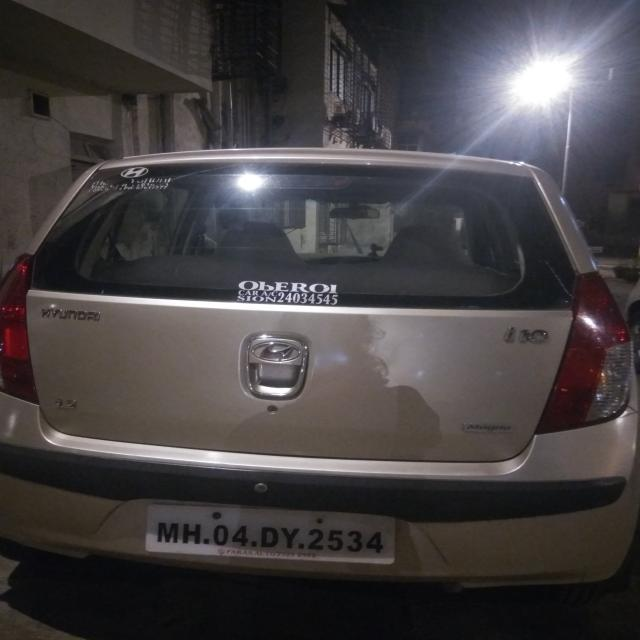Number-Plate: (153, 507, 400, 558)
